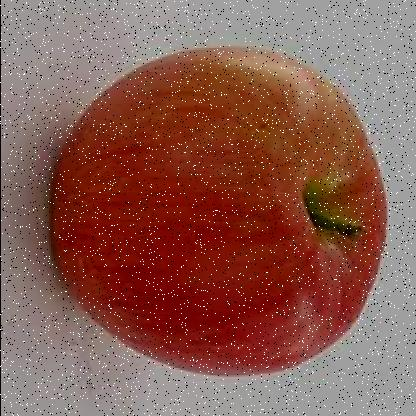apple: (42, 48, 388, 376)
